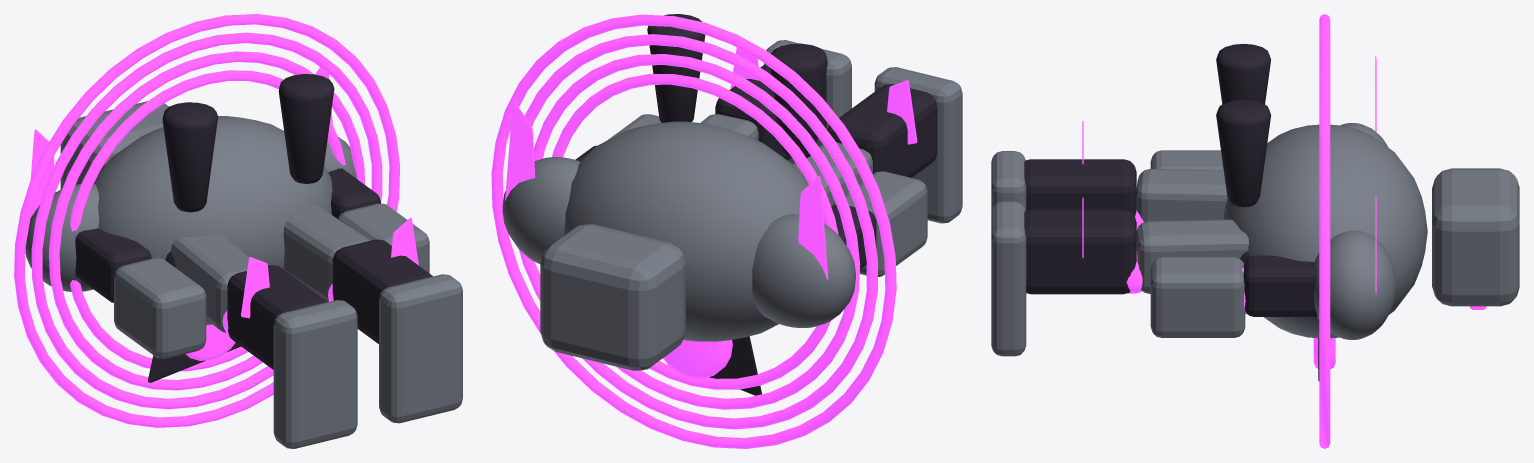
The model's file is bomber_enemy.glb.
3 views of the same model, side by side, from view 1: azimuth 30°, elevation 25°; view 2: azimuth 150°, elevation 25°; view 3: azimuth 270°, elevation 25° (orthographic). The views are drawn at different scales.
Parts seen in each view (by area): view 1: torso, foot, rupture-ring3, foot.001, rupture-ring2, rupture-ring1, forearm, rupture-ring0, lower-leg.001, enemy-thruster, enemy-thruster.001, lower-leg (+13 smaller); view 2: torso, head, rupture-ring3, rupture-ring2, rupture-ring1, shoulder-shell, rupture-ring0, lower-leg, foot, shoulder-shell.001, forearm, enemy-thruster.001 (+11 smaller); view 3: torso, head, lower-leg.001, forearm.001, shoulder-shell.001, lower-leg, foot.001, rupture-ring3, enemy-thruster.001, upper-leg, upper-leg.001, upper-arm.001 (+3 smaller).
Boxes of the visible parts, x1,y1,x2,y2 form: torso: (93,116,332,325); foot: (273,300,357,448); rupture-ring3: (14,14,399,427); foot.001: (379,274,462,423); rupture-ring2: (31,32,382,409); rupture-ring1: (49,51,365,390); forearm: (114,258,206,358); rupture-ring0: (70,70,345,371); lower-leg.001: (332,239,432,343); enemy-thruster: (162,102,217,212); enemy-thruster.001: (278,74,334,183); lower-leg: (227,265,327,369); torso: (563,121,824,341); head: (540,224,685,370); rupture-ring3: (491,14,896,448); rupture-ring2: (519,34,877,429); rupture-ring1: (534,54,860,409); shoulder-shell: (752,214,855,327); rupture-ring0: (552,74,838,389); lower-leg: (827,84,937,177); foot: (874,67,962,223); shoulder-shell.001: (502,157,580,263); forearm: (832,171,927,276); enemy-thruster.001: (647,14,705,122); torso: (1223,124,1427,338); head: (1432,168,1519,306); lower-leg.001: (1024,209,1136,294); forearm.001: (1150,257,1245,337); shoulder-shell.001: (1314,230,1396,339); lower-leg: (1024,159,1136,216); foot.001: (991,201,1026,356); rupture-ring3: (1319,14,1330,448); enemy-thruster.001: (1216,99,1271,207); upper-leg: (1136,169,1227,222); upper-leg.001: (1136,219,1248,293); upper-arm.001: (1243,255,1317,316).
Bounding box in the file's own units: 1.99 × 1.99 × 2.41.
